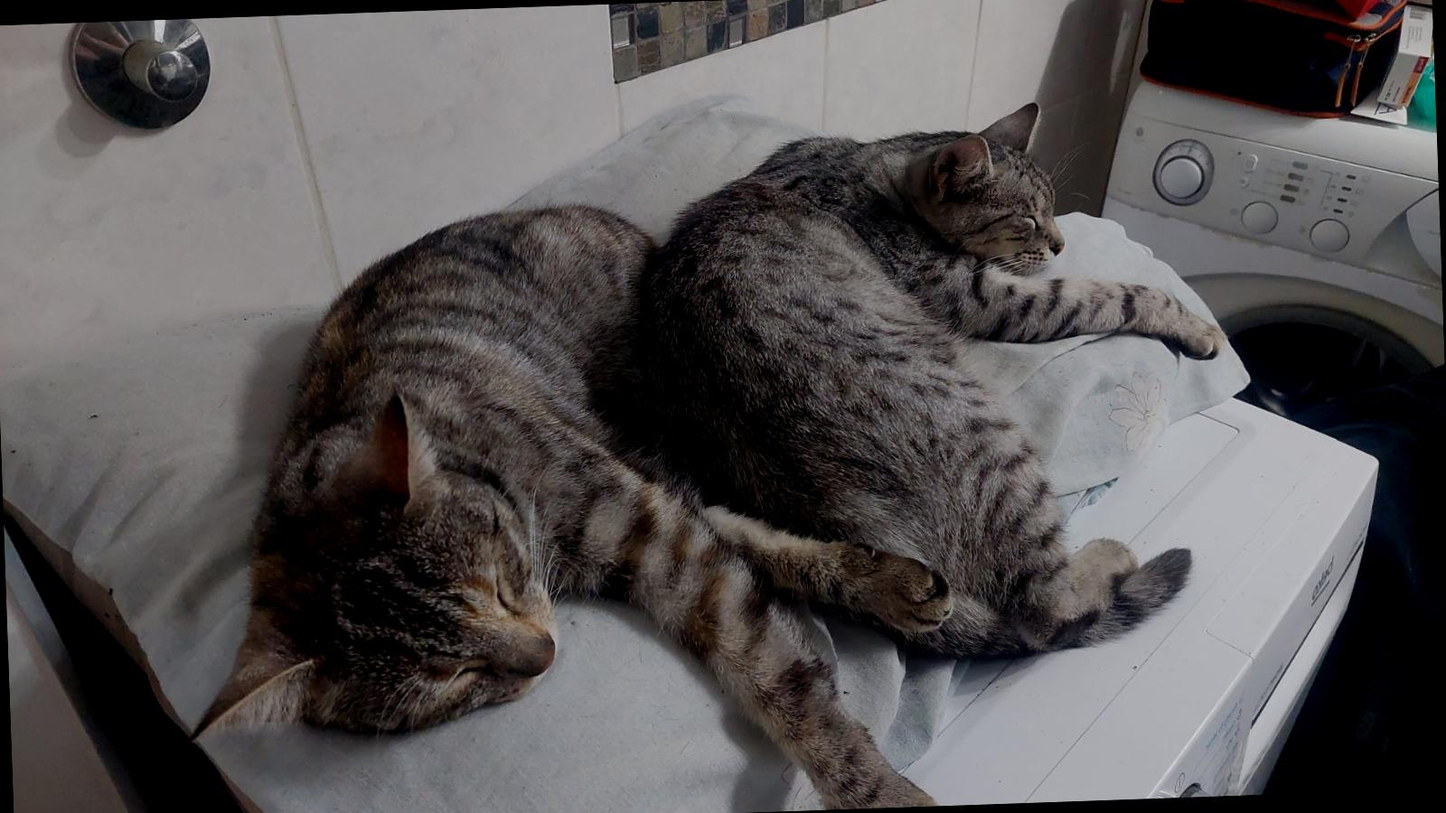macka: (166, 192, 957, 813), (643, 92, 1238, 672)
